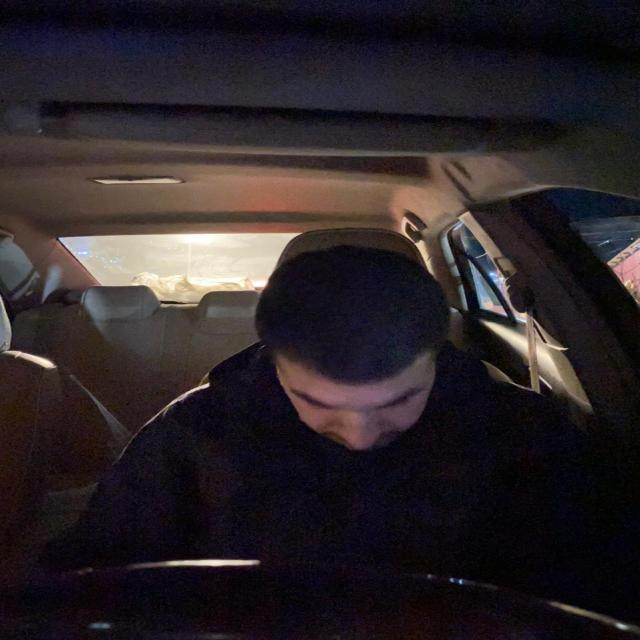drowsy: (253, 246, 455, 457)
